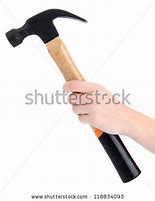hammer: (4, 7, 142, 184)
